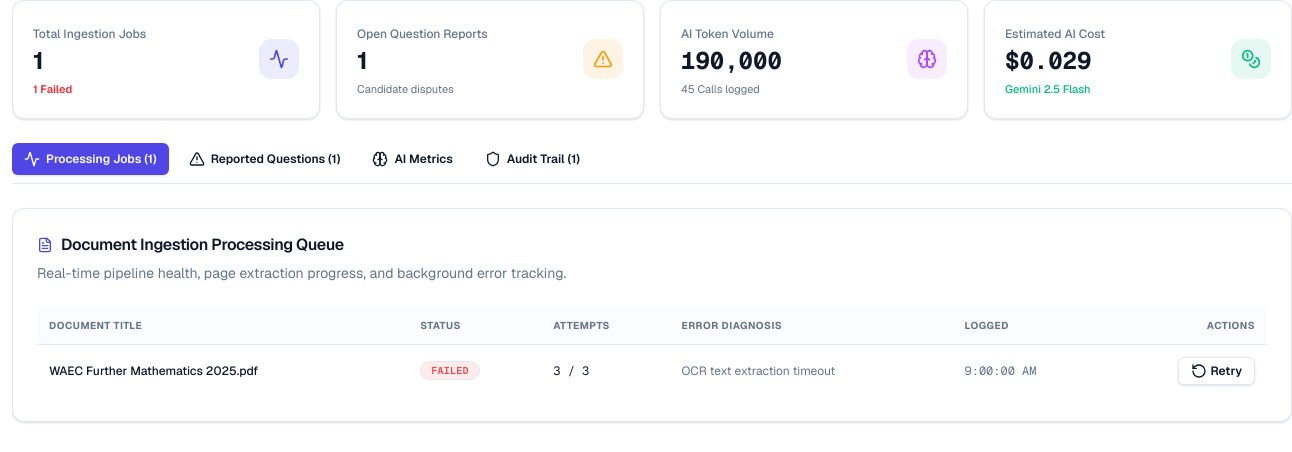
Test: AdminConsoleClient Component › switches to AI Metrics tab and displays token telemetry
Click the tab "AI Metrics".
click(413, 158)  # box [360,142,465,174]
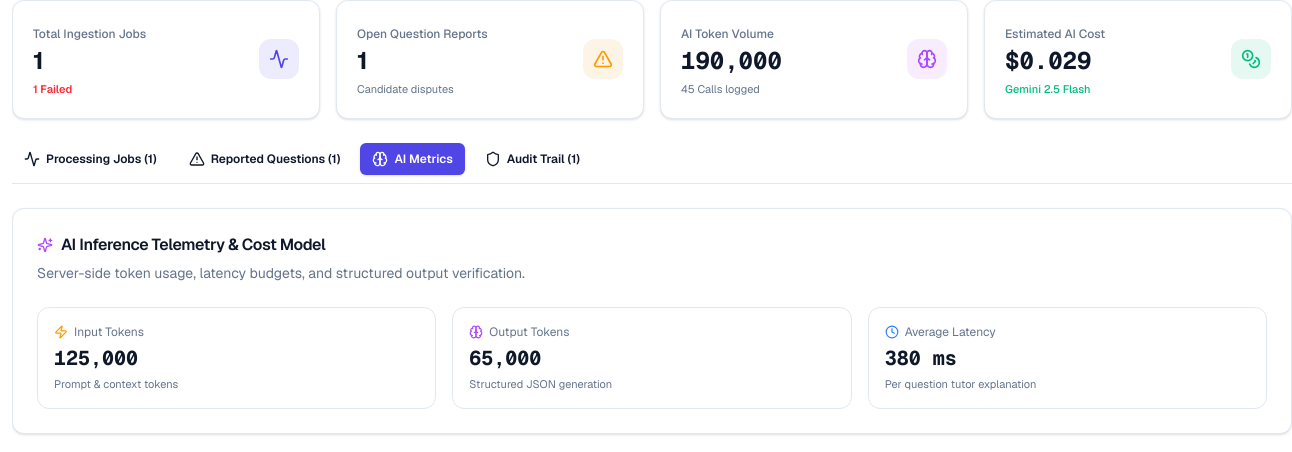
Result: the heading "AI Inference Telemetry & Cost Model" is shown at [37,234,325,254]
Result: the text "Input Tokens" is shown at [54,324,144,340]
Result: the text "Output Tokens" is shown at [469,324,569,340]
